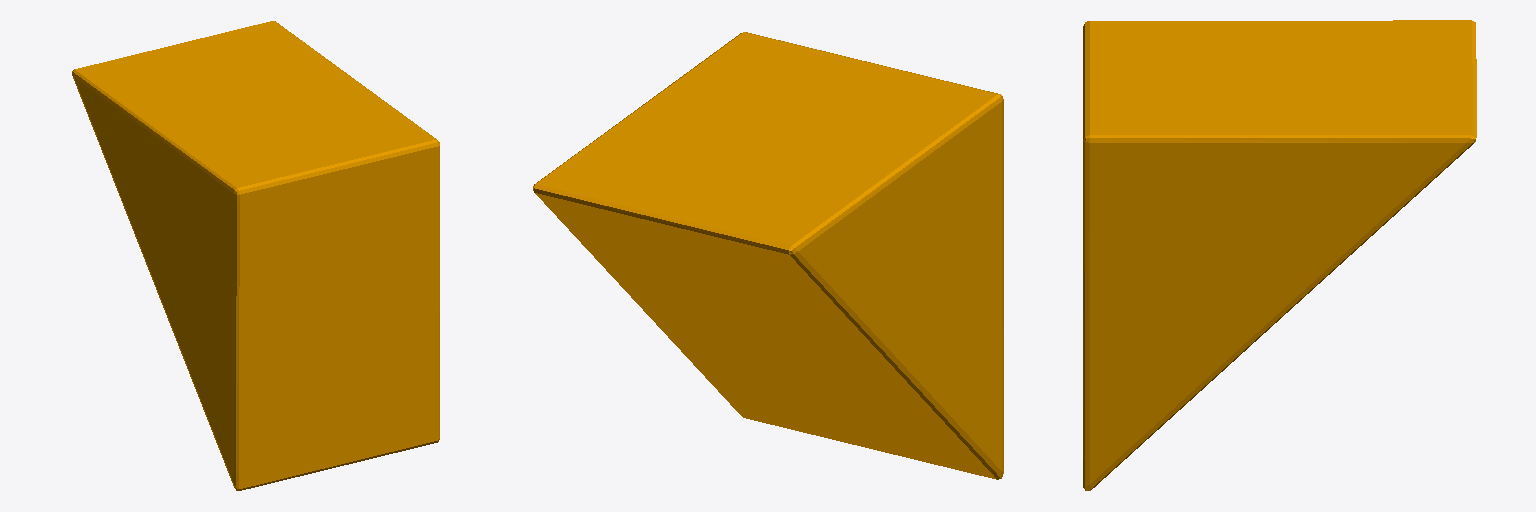
robot.urdf — object:
<?xml version="1.0"?>
<robot name="object">
  <link name="object">
    <visual>
      <origin xyz="0 0 0"/>
      <geometry>
        <mesh filename="gray_ramp.obj" scale="0.7 1 1"/>
      </geometry>
    </visual>
    <collision>
      <origin xyz="0 0 0"/>
      <geometry>
        <mesh filename="gray_ramp.obj" scale="0.7 1 1"/>
      </geometry>
    </collision>

  </link>
</robot>

--- What the picture shows (computed from the rendered views, not written in the file) ---
Views: 3 orthographic renders of the robot side by side, from view 1: azimuth 30°, elevation 25°; view 2: azimuth 150°, elevation 25°; view 3: azimuth 270°, elevation 25°.
Robot: object — 1 links, 0 joints (none); root link object; default pose: every joint at zero.
Visible links, largest first — view 1: object; view 2: object; view 3: object.
Boxes of the visible links, x1,y1,x2,y2 form: object: (72,21,439,490); object: (533,32,1003,479); object: (1083,20,1476,490).
Size in the robot's own frame: 1.4 by 1.97 by 1.97 metres.
Meshes: 1 distinct files referenced, 1 mesh visuals loaded (1 OBJ).
